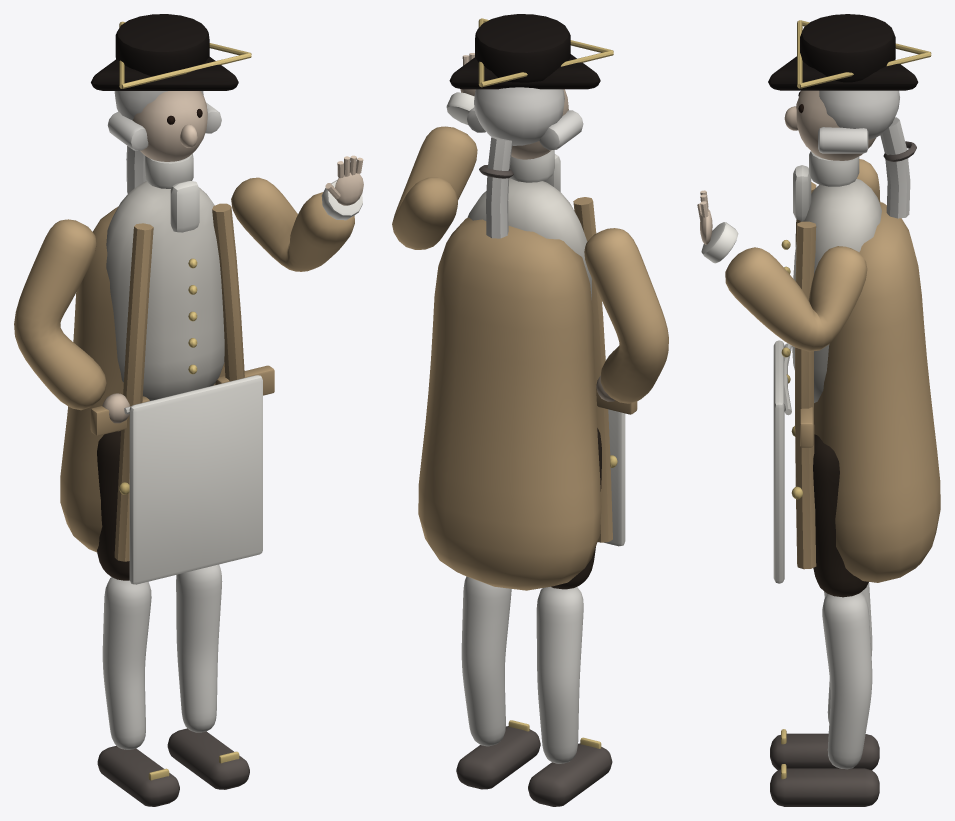
Rendered from obj_kit_merchant.glb.
3 renders of one model, left to right at view 1: azimuth 30°, elevation 25°; view 2: azimuth 150°, elevation 25°; view 3: azimuth 270°, elevation 25°, orthographic. The views are drawn at different scales.
Parts seen in each view (by area): view 1: Cube.006, vest, armL, coat, stocking, armR, stocking.001, lapel, Cylinder.005, Sphere.010, lapel.001, Cube.002 (+12 smaller); view 2: coat, armL, stocking, stocking.001, armR, Cylinder.005, Sphere.014, vest, lapel, Cube.002, Cube, Cylinder.004 (+8 smaller); view 3: coat, armR, stocking.001, Cylinder.005, vest, lapel.001, breeches.001, Cube.002, Sphere.014, Cube.006, Cylinder.004, Cube (+9 smaller).
Boxes of the visible parts, x1,y1,x2,y2 form: Cube.006: [129, 375, 262, 584]; vest: [106, 181, 224, 400]; armL: [14, 219, 106, 410]; coat: [60, 206, 225, 552]; stocking: [102, 577, 151, 749]; armR: [231, 177, 354, 271]; stocking.001: [176, 564, 222, 732]; lapel: [114, 223, 153, 561]; Cylinder.005: [115, 14, 209, 77]; Sphere.010: [132, 91, 207, 161]; lapel.001: [212, 203, 244, 381]; Cube.002: [167, 728, 249, 789]; coat: [418, 217, 601, 590]; armL: [584, 228, 668, 403]; stocking: [536, 586, 583, 763]; stocking.001: [461, 576, 511, 746]; armR: [392, 126, 477, 249]; Cylinder.005: [475, 14, 570, 82]; Sphere.014: [474, 87, 564, 145]; vest: [467, 178, 591, 299]; lapel: [573, 197, 612, 542]; Cube.002: [456, 726, 540, 789]; Cube: [528, 743, 612, 806]; Cylinder.004: [449, 54, 600, 89]; coat: [814, 202, 940, 582]; armR: [725, 246, 867, 351]; stocking.001: [822, 592, 872, 769]; Cylinder.005: [800, 14, 895, 82]; vest: [792, 178, 881, 402]; lapel.001: [795, 221, 816, 569]; breeches.001: [813, 434, 868, 597]; Cube.002: [770, 768, 879, 806]; Sphere.014: [819, 90, 899, 139]; Cube.006: [773, 340, 784, 583]; Cylinder.004: [768, 56, 918, 90]; Cube: [770, 733, 879, 769].
Bounding box in the file's own units: 0.7332 × 1.82 × 0.5333.
